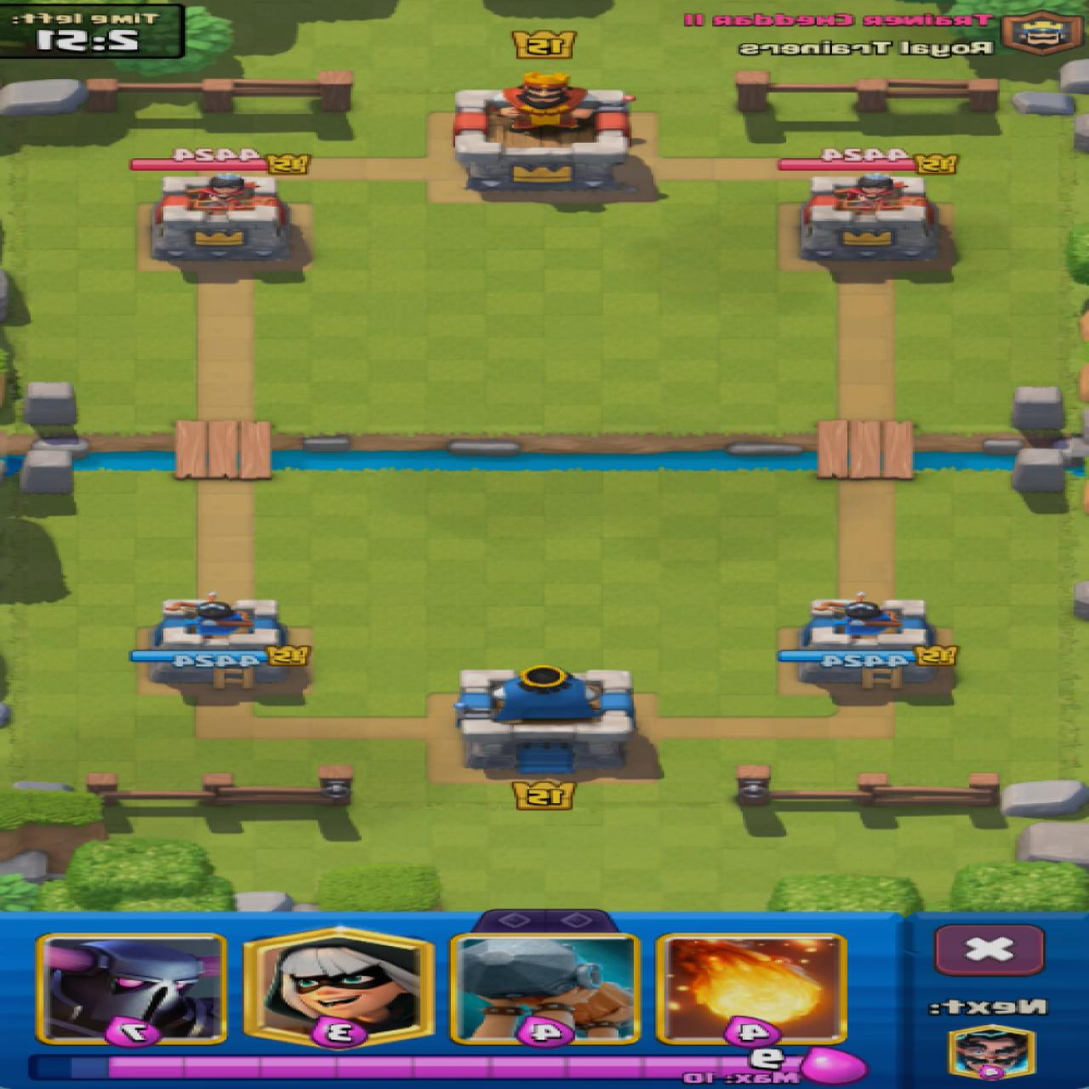Enemy-KingTower: (455, 73, 632, 194)
Enemy-PrincessTower: (155, 175, 292, 263), (802, 173, 939, 261)
